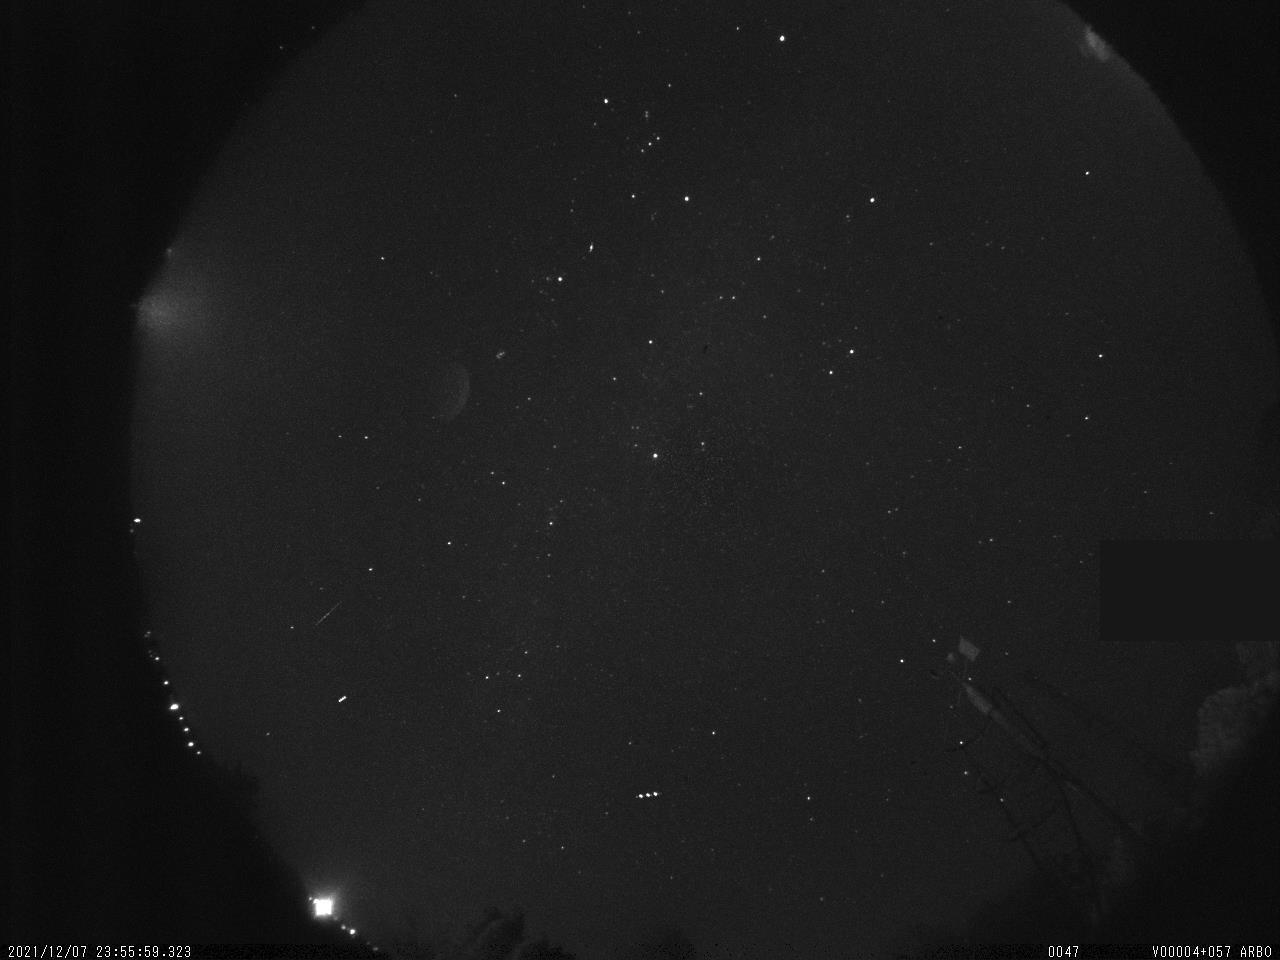satelite: (310, 592, 347, 634), (633, 785, 664, 807)
